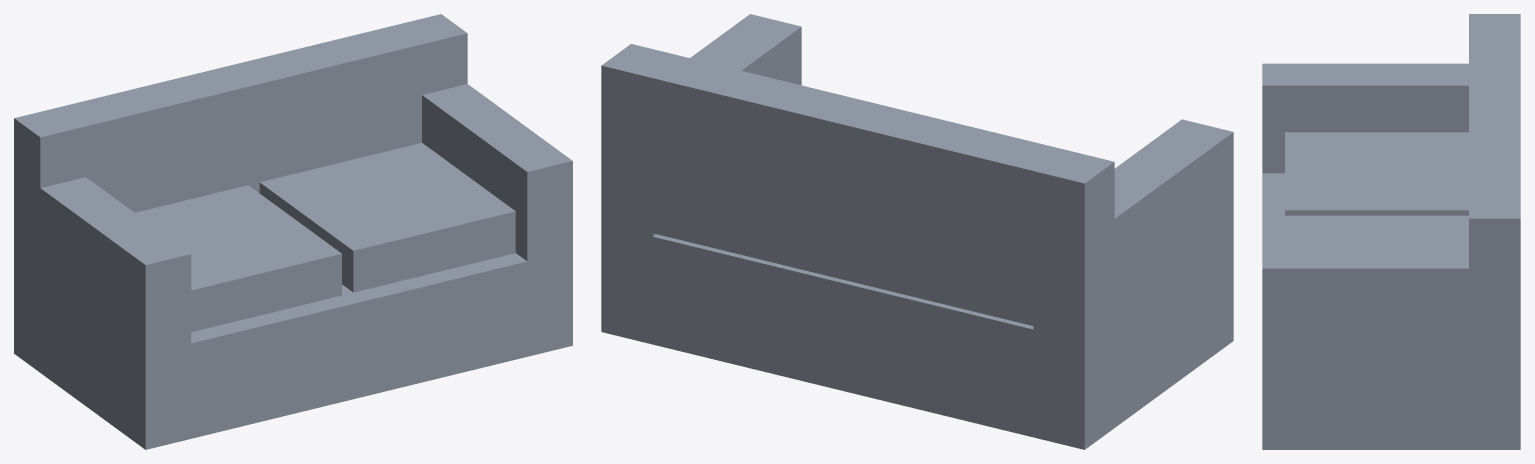
Rendered from Sofa.glb.
3 renders of one model, left to right at view 1: azimuth 30°, elevation 25°; view 2: azimuth 150°, elevation 25°; view 3: azimuth 270°, elevation 25°, orthographic. The views are drawn at different scales.
Visible parts, largest first — view 1: Sofa; view 2: Sofa; view 3: Sofa.
Boxes of the visible parts, x1,y1,x2,y2 form: Sofa: [14, 14, 572, 449]; Sofa: [601, 14, 1233, 449]; Sofa: [1262, 14, 1520, 449].
Size of the model in its own units: 1.5 by 0.79 by 0.8.
